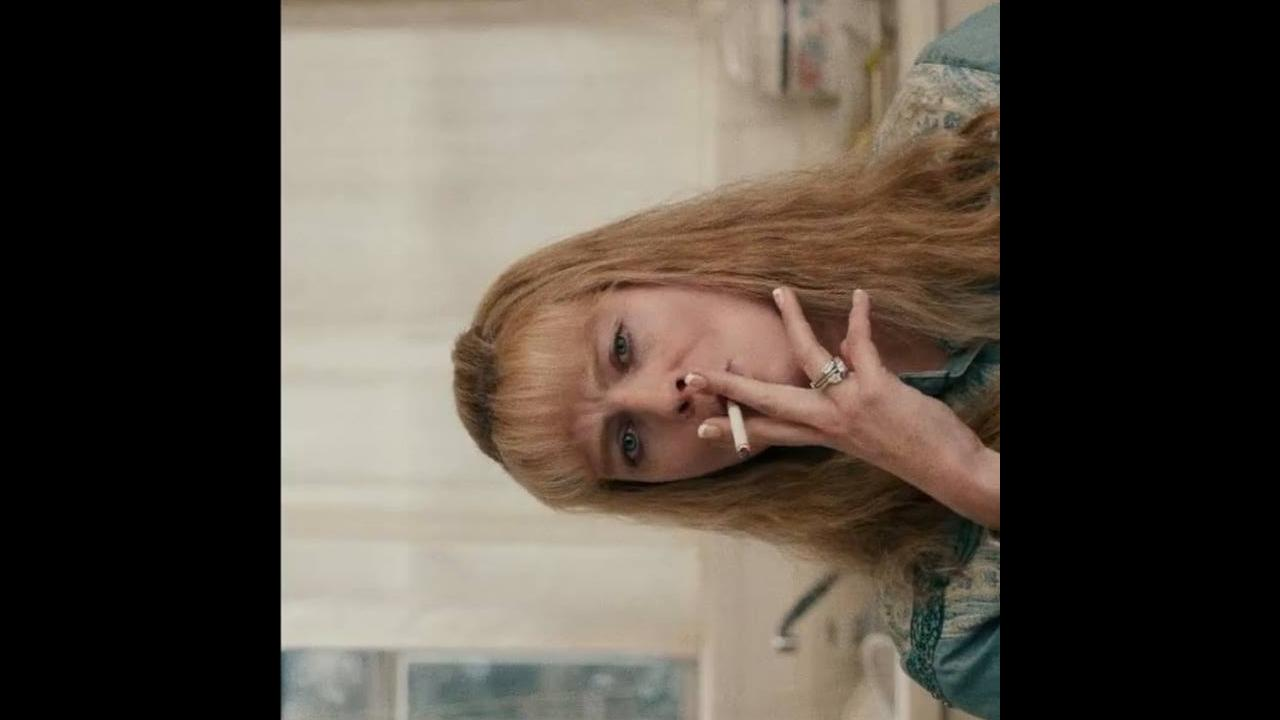Cigarette: (454, 10, 1000, 720), (726, 398, 750, 452)
